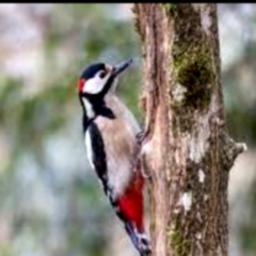Woodpecker: (79, 57, 153, 256)
